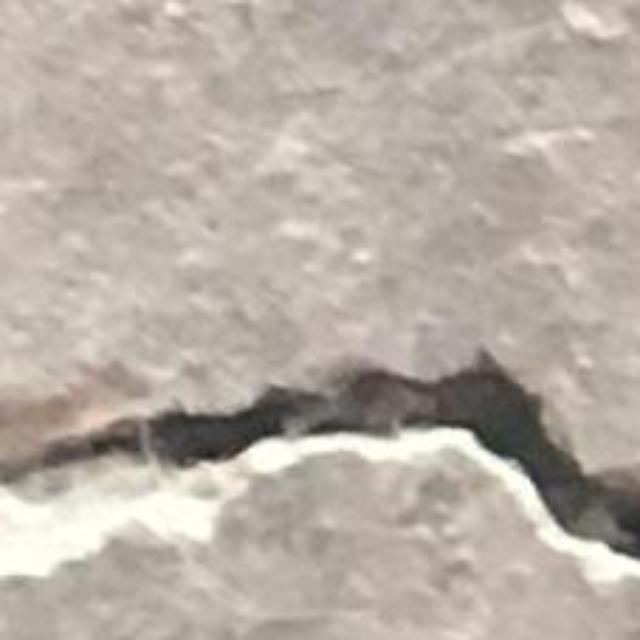crack: (0, 353, 639, 558)
